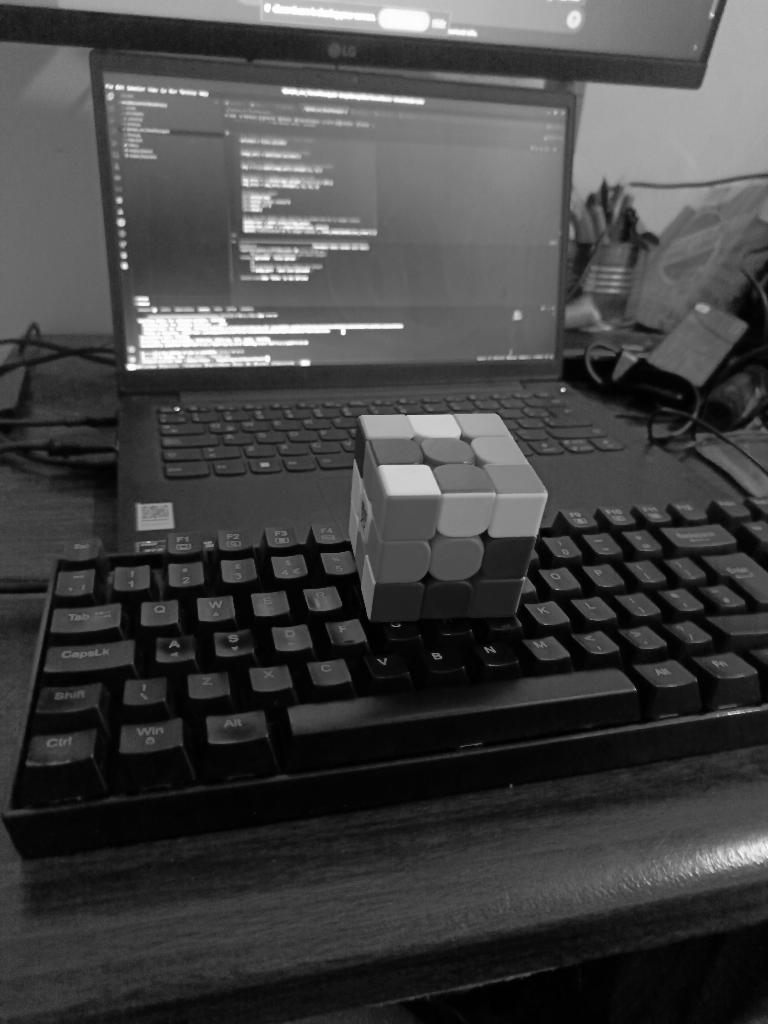rubik: (346, 408, 548, 622)
